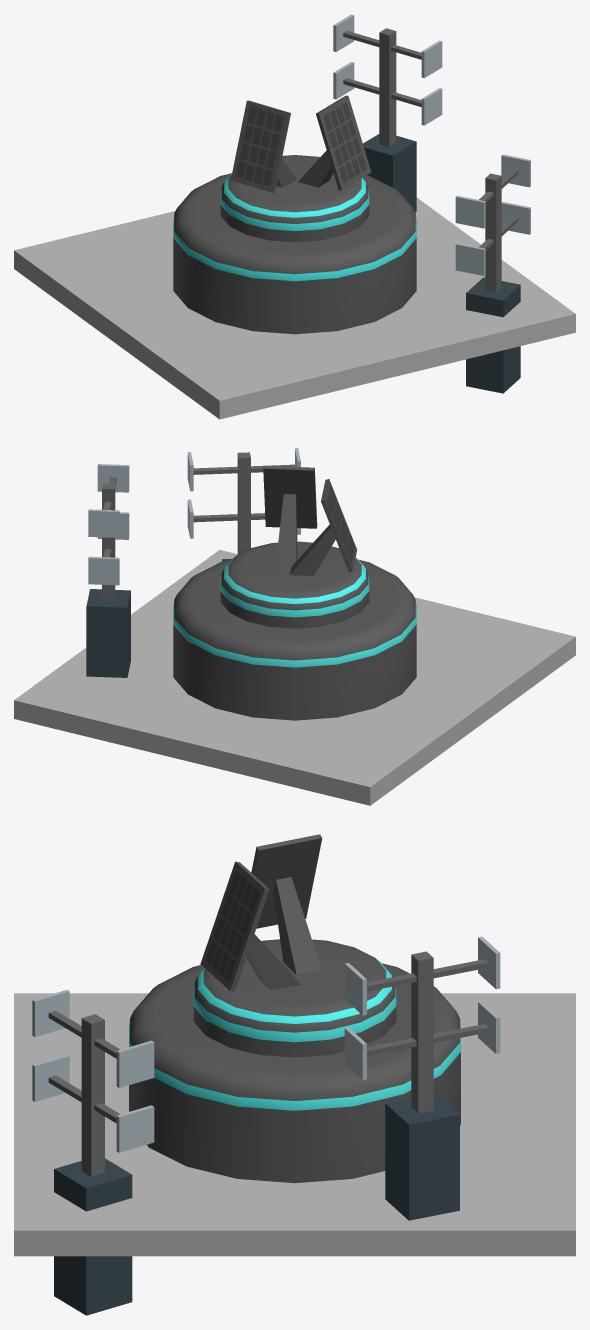
The model's file is M_Stalitte_prop - Copy.fbx.
3 renders of one model, top to bottom at view 1: azimuth 30°, elevation 25°; view 2: azimuth 150°, elevation 25°; view 3: azimuth 270°, elevation 25°, orthographic. The views are drawn at different scales.
Visible parts, largest first — view 1: M_Stalitte_prop; view 2: M_Stalitte_prop; view 3: M_Stalitte_prop.
Part boxes in pixels (left/top/right/bottom): M_Stalitte_prop: left=14, top=14, right=575, bottom=419; M_Stalitte_prop: left=14, top=448, right=575, bottom=805; M_Stalitte_prop: left=14, top=834, right=575, bottom=1315.
Size of the model in its own units: 20 by 13.98 by 20.
Materials: 1 (1 with a texture image).
